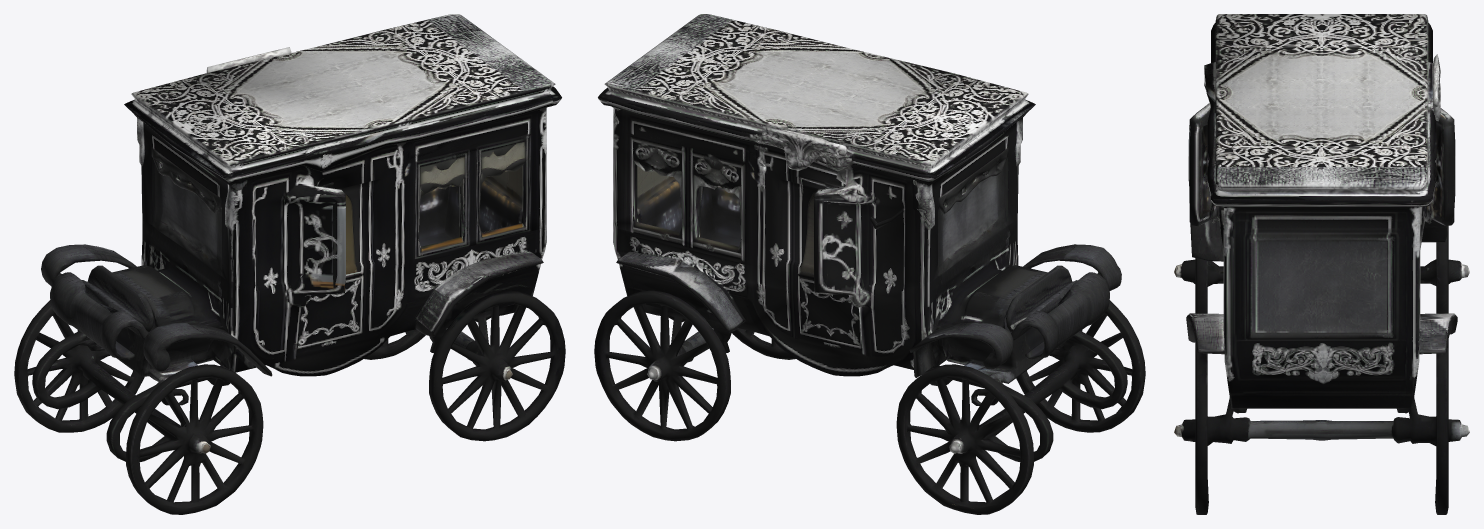
Rendered from board_hearse_ornate.glb.
3 views of the same model, side by side, from view 1: azimuth 30°, elevation 25°; view 2: azimuth 150°, elevation 25°; view 3: azimuth 270°, elevation 25° (orthographic). The views are drawn at different scales.
Bounding box in the file's own units: 1.91 × 1.38 × 1.03.
Materials: 1 (1 with a texture image).
